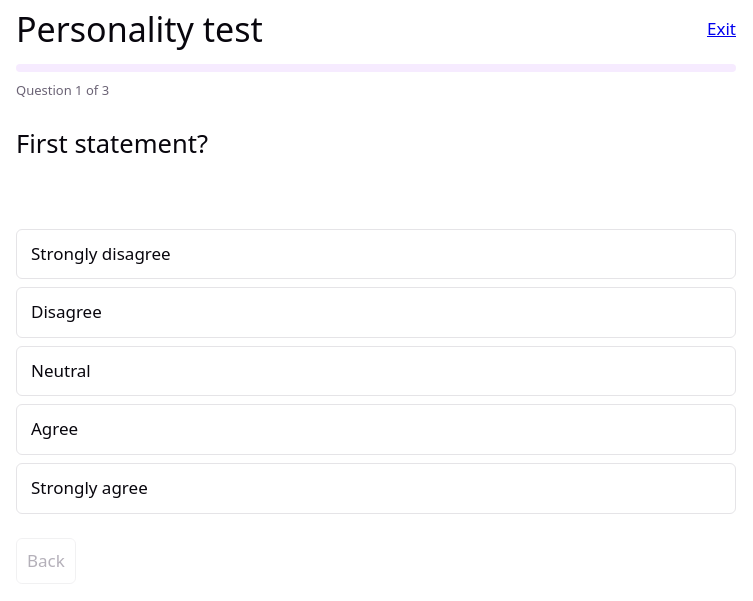
Test: quiz flow › tracks progress and supports going back
Click the button "Agree" at (55, 429), box [16,404,736,455]
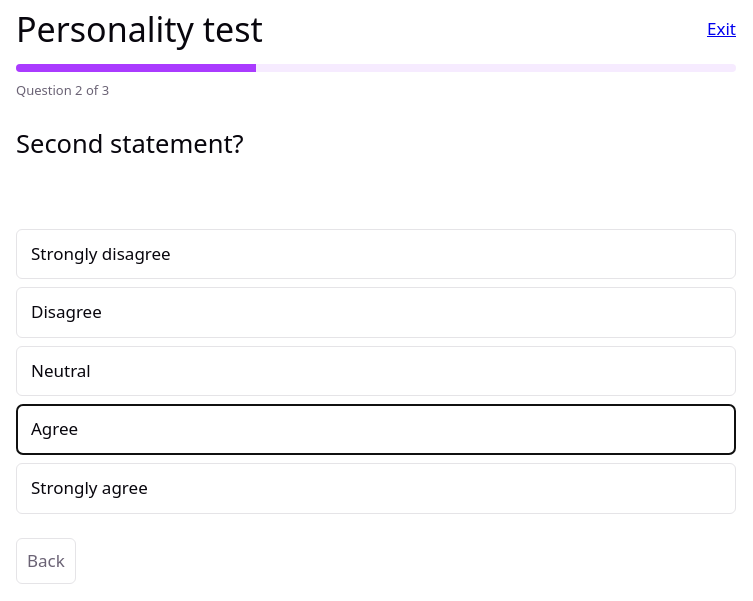
expect the heading "Second statement?" is shown: met, box [16,126,244,160]
Click the button "Back" at (46, 561), box [16,538,76,584]
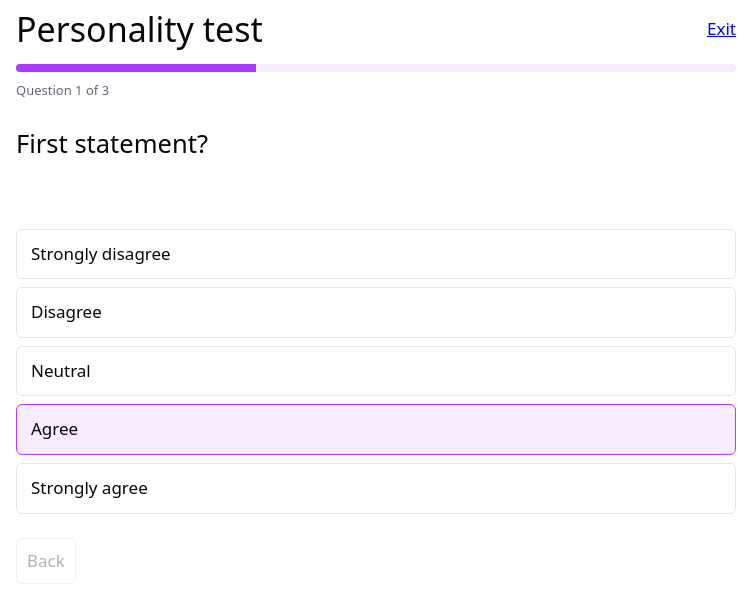
expect the heading "First statement?" is shown: met, box [16,126,208,160]
